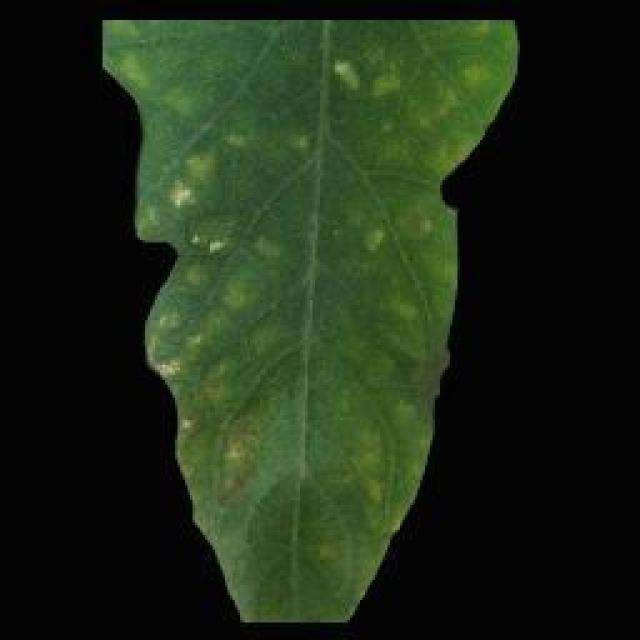Late Blight: (102, 20, 520, 622)
